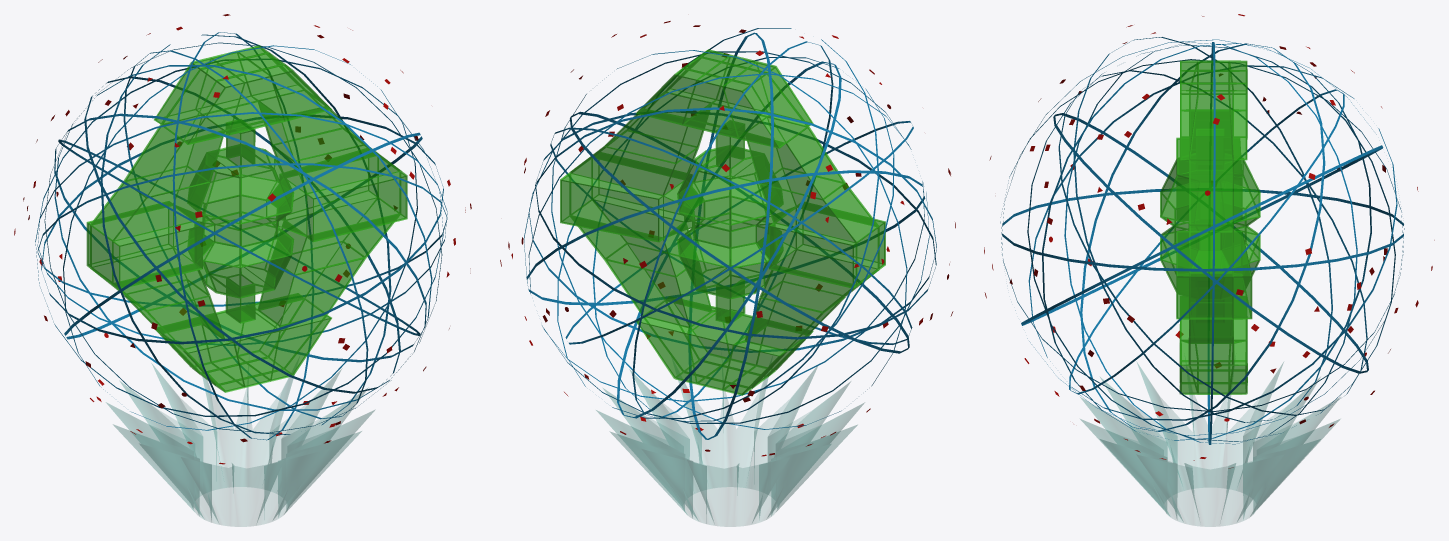
The model's file is hologram1.obj.
3 views of the same model, side by side, from view 1: azimuth 30°, elevation 25°; view 2: azimuth 150°, elevation 25°; view 3: azimuth 270°, elevation 25° (orthographic).
Visible parts, largest first — view 1: hologram_radar.001_Cube.001, hologram_Sphere.001, hologram_radar.007_Torus.017, hologram_radar.004_Torus.017, hologram_radar_Torus.017, hologram_radar.006_Torus.017, hologram_radar.002_Torus.017, hologram_radar.005_Torus.017, hologram_radar.003_Torus.017; view 2: hologram_radar.001_Cube.001, hologram_Sphere.001, hologram_radar.005_Torus.017, hologram_radar.006_Torus.017, hologram_radar_Torus.017, hologram_radar.002_Torus.017, hologram_radar.003_Torus.017, hologram_radar.004_Torus.017, hologram_radar.007_Torus.017; view 3: hologram_radar.001_Cube.001, hologram_Sphere.001, hologram_radar.004_Torus.017, hologram_radar.007_Torus.017, hologram_radar.003_Torus.017, hologram_radar_Torus.017, hologram_radar.005_Torus.017, hologram_radar.006_Torus.017, hologram_radar.002_Torus.017.
Part boxes in pixels (left/top/right/bottom): hologram_radar.001_Cube.001: left=86, top=45, right=407, bottom=392; hologram_Sphere.001: left=106, top=363, right=374, bottom=526; hologram_radar.007_Torus.017: left=64, top=32, right=470, bottom=440; hologram_radar.004_Torus.017: left=27, top=26, right=450, bottom=425; hologram_radar_Torus.017: left=28, top=35, right=447, bottom=436; hologram_radar.006_Torus.017: left=58, top=14, right=471, bottom=442; hologram_radar.002_Torus.017: left=39, top=45, right=449, bottom=443; hologram_radar.005_Torus.017: left=14, top=59, right=465, bottom=464; hologram_radar.003_Torus.017: left=23, top=25, right=455, bottom=444; hologram_radar.001_Cube.001: left=560, top=49, right=885, bottom=395; hologram_Sphere.001: left=596, top=366, right=864, bottom=526; hologram_radar.005_Torus.017: left=521, top=29, right=953, bottom=427; hologram_radar.006_Torus.017: left=508, top=41, right=936, bottom=437; hologram_radar_Torus.017: left=526, top=57, right=925, bottom=446; hologram_radar.002_Torus.017: left=542, top=25, right=932, bottom=451; hologram_radar.003_Torus.017: left=511, top=32, right=955, bottom=456; hologram_radar.004_Torus.017: left=524, top=28, right=950, bottom=421; hologram_radar.007_Torus.017: left=500, top=21, right=949, bottom=435; hologram_radar.001_Cube.001: left=1160, top=60, right=1260, bottom=394; hologram_Sphere.001: left=1080, top=362, right=1340, bottom=526; hologram_radar.004_Torus.017: left=989, top=14, right=1403, bottom=440; hologram_radar.007_Torus.017: left=1038, top=42, right=1434, bottom=452; hologram_radar.003_Torus.017: left=984, top=43, right=1385, bottom=440; hologram_radar_Torus.017: left=992, top=46, right=1432, bottom=458; hologram_radar.005_Torus.017: left=984, top=25, right=1418, bottom=460; hologram_radar.006_Torus.017: left=1001, top=16, right=1404, bottom=459; hologram_radar.002_Torus.017: left=1027, top=32, right=1418, bottom=468.
Bounding box in the file's own units: 3.73 × 4.43 × 3.84.
